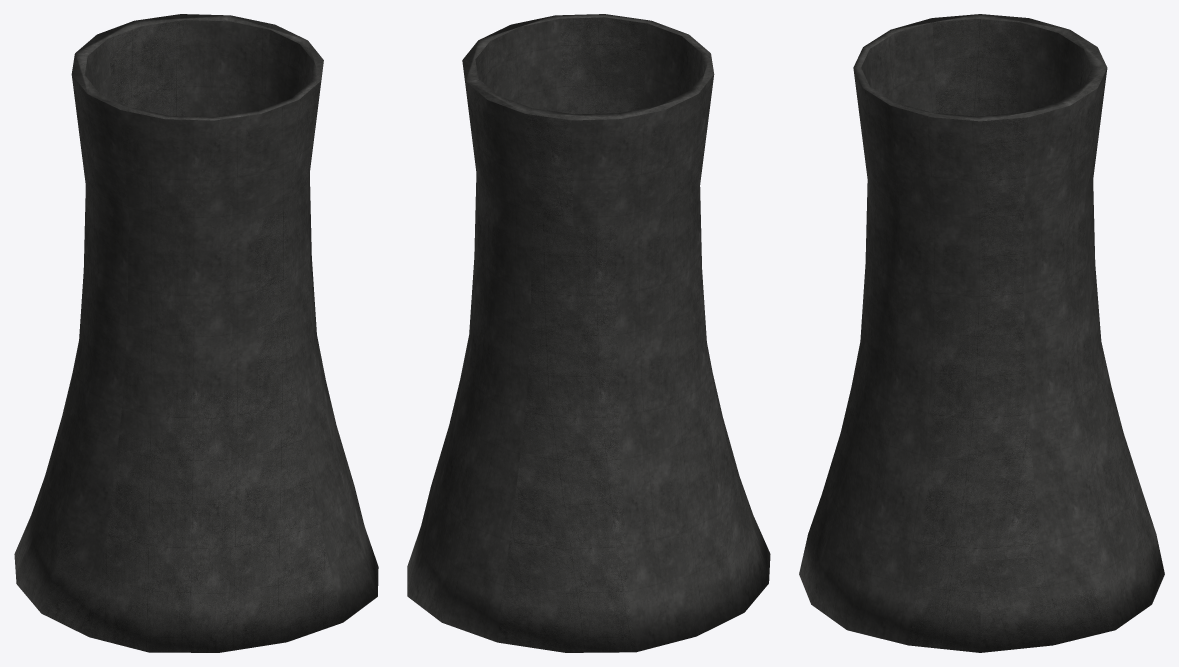
Rendered from SarcoPodMap10Export (2).glb.
3 renders of one model, left to right at view 1: azimuth 30°, elevation 25°; view 2: azimuth 150°, elevation 25°; view 3: azimuth 270°, elevation 25°, orthographic.
Parts seen in each view (by area): view 1: Tower; view 2: Tower; view 3: Tower.
Boxes of the visible parts, x1,y1,x2,y2 form: Tower: (14, 14, 378, 652); Tower: (407, 14, 770, 652); Tower: (799, 14, 1164, 652).
Bounding box in the file's own units: 193 × 297 × 194.
3 materials, 3 textured.
